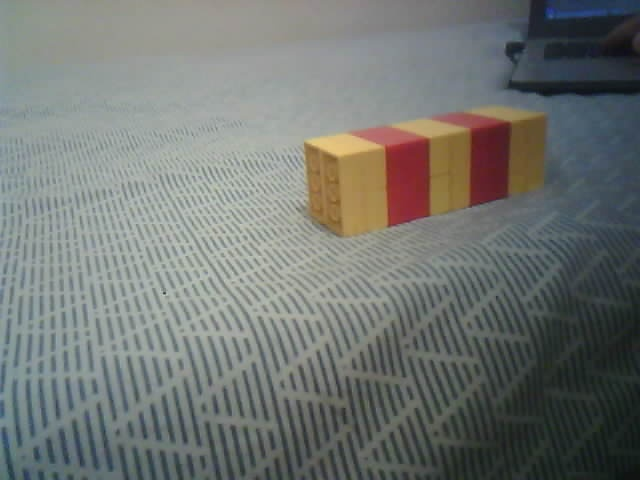lego: (302, 104, 546, 239)
